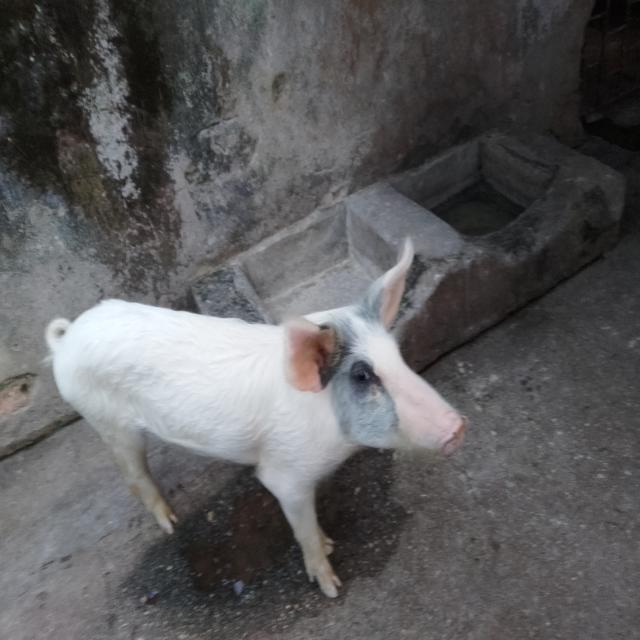pig: (22, 182, 482, 623)
